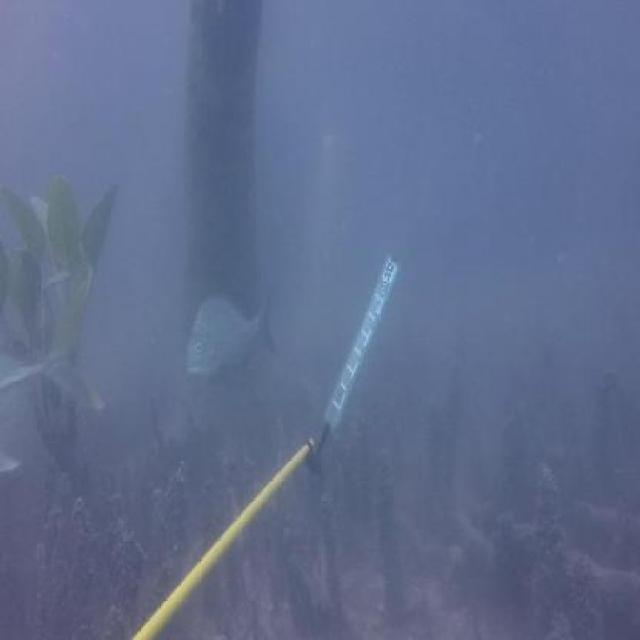Caranx: (1, 270, 105, 479)
acanthopagrus_palmaris: (184, 278, 276, 394)
